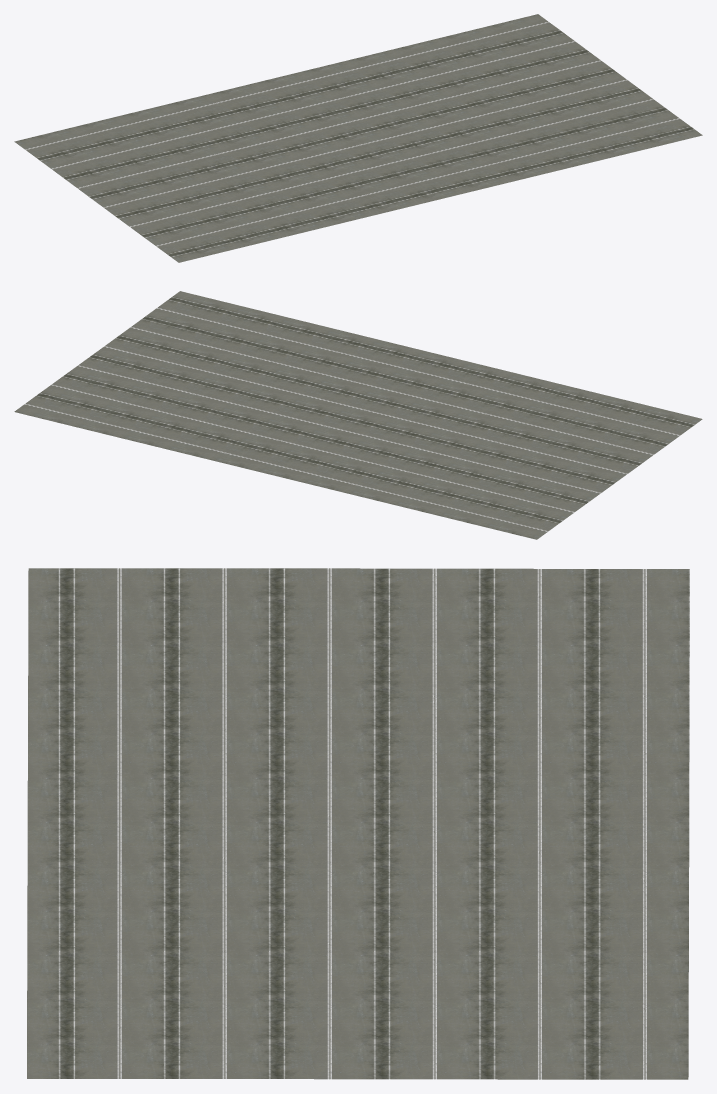
The picture shows the model from 3 angles, top to bottom: view 1: azimuth 30°, elevation 25°; view 2: azimuth 150°, elevation 25°; view 3: azimuth 270°, elevation 25°; orthographic projection. The views are drawn at different scales.
Visible parts, largest first — view 1: SM_HK_03_09; view 2: SM_HK_03_09; view 3: SM_HK_03_09.
Boxes of the visible parts, left/top/right/bottom form: SM_HK_03_09: left=14, top=14, right=702, bottom=262; SM_HK_03_09: left=14, top=291, right=702, bottom=539; SM_HK_03_09: left=27, top=568, right=689, bottom=1079.
Bounding box in the file's own units: 16164 × 0 × 8859.
